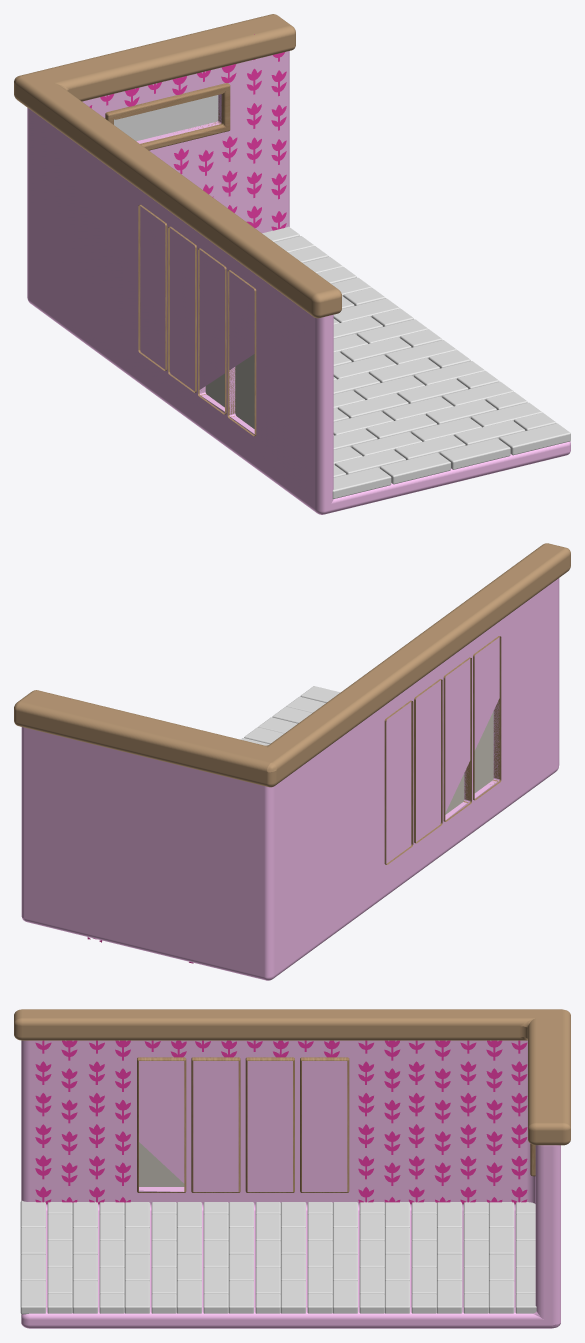
File: Invernadero Primavera.fbx
3 renders of one model, top to bottom at view 1: azimuth 30°, elevation 25°; view 2: azimuth 150°, elevation 25°; view 3: azimuth 270°, elevation 25°, orthographic. The views are drawn at different scales.
Visible parts, largest first — view 1: Pared Primavera, Plane, Paredes.003, Papel flores, Ventanas, Vidrio 2, Ventana 2, Ventanas.001; view 2: Pared Primavera, Paredes.003, Ventanas, Plane, Ventanas.001; view 3: Pared Primavera, Plane, Paredes.003, Papel flores, Ventanas, Ventanas.001.
Boxes of the visible parts, left/top/right/bottom form: Pared Primavera: left=27, top=51, right=570, bottom=514; Plane: left=262, top=226, right=570, bottom=498; Paredes.003: left=14, top=14, right=341, bottom=318; Papel flores: left=89, top=34, right=286, bottom=230; Ventanas: left=138, top=204, right=256, bottom=436; Vidrio 2: left=114, top=95, right=218, bottom=141; Ventana 2: left=105, top=83, right=230, bottom=150; Ventanas.001: left=205, top=354, right=254, bottom=428; Pared Primavera: left=21, top=578, right=559, bottom=980; Paredes.003: left=14, top=543, right=570, bottom=787; Ventanas: left=384, top=636, right=501, bottom=864; Plane: left=241, top=686, right=340, bottom=745; Ventanas.001: left=445, top=711, right=493, bottom=814; Pared Primavera: left=21, top=1040, right=560, bottom=1328; Plane: left=20, top=1200, right=536, bottom=1314; Paredes.003: left=14, top=1009, right=570, bottom=1145; Papel flores: left=35, top=1040, right=527, bottom=1204; Ventanas: left=137, top=1057, right=349, bottom=1192; Ventanas.001: left=139, top=1142, right=184, bottom=1186.
Bounding box in the file's own units: 402 × 347 × 802.
Materials: 9 (4 with a texture image).
